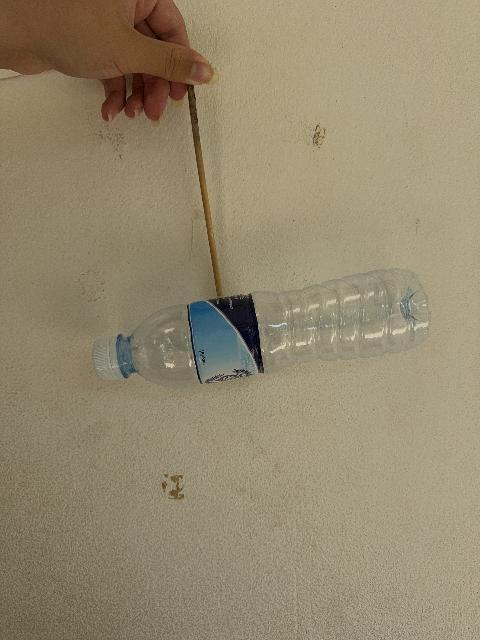bottle: (92, 269, 429, 387)
